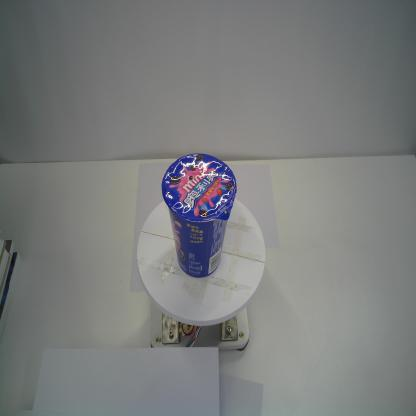Dessert: (161, 153, 238, 278)
